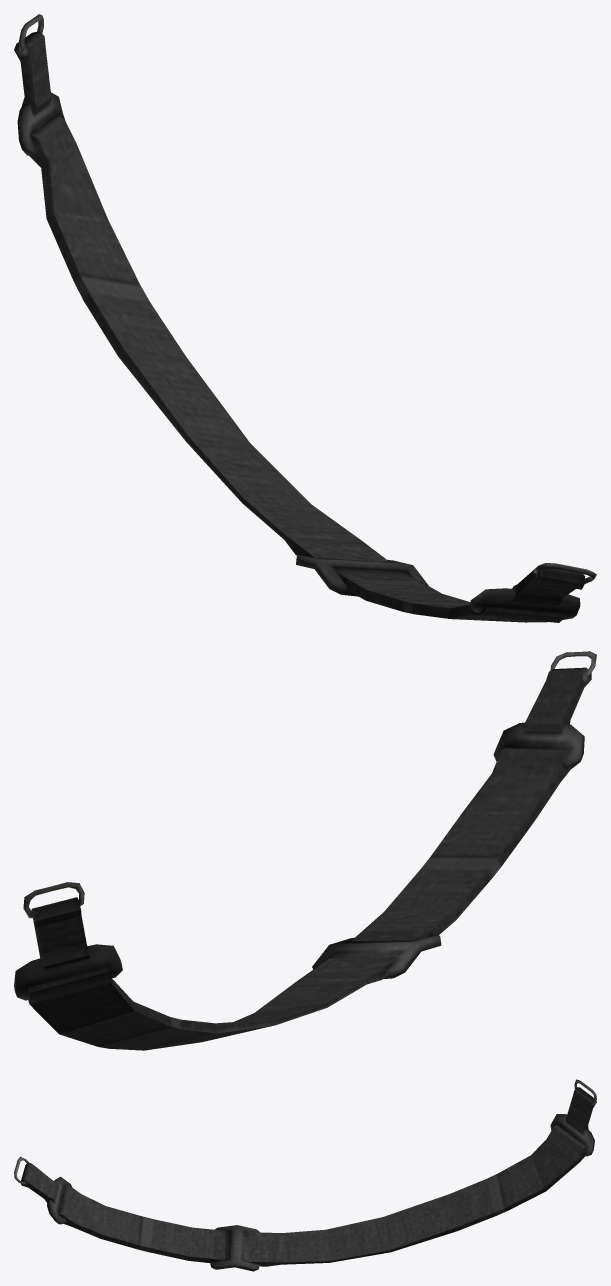
Rendered from M14_Sling.fbx.
3 views of the same model, one above another, from view 1: azimuth 30°, elevation 25°; view 2: azimuth 150°, elevation 25°; view 3: azimuth 270°, elevation 25° (orthographic). The views are drawn at different scales.
Visible parts, largest first — view 1: M14_Sling; view 2: M14_Sling; view 3: M14_Sling.
Boxes of the visible parts, bbox=[...] form: M14_Sling: bbox=[14, 14, 596, 622]; M14_Sling: bbox=[14, 651, 596, 1050]; M14_Sling: bbox=[14, 1079, 596, 1271].
Bounding box in the file's own units: 0.0381 × 0.3628 × 0.1215.
